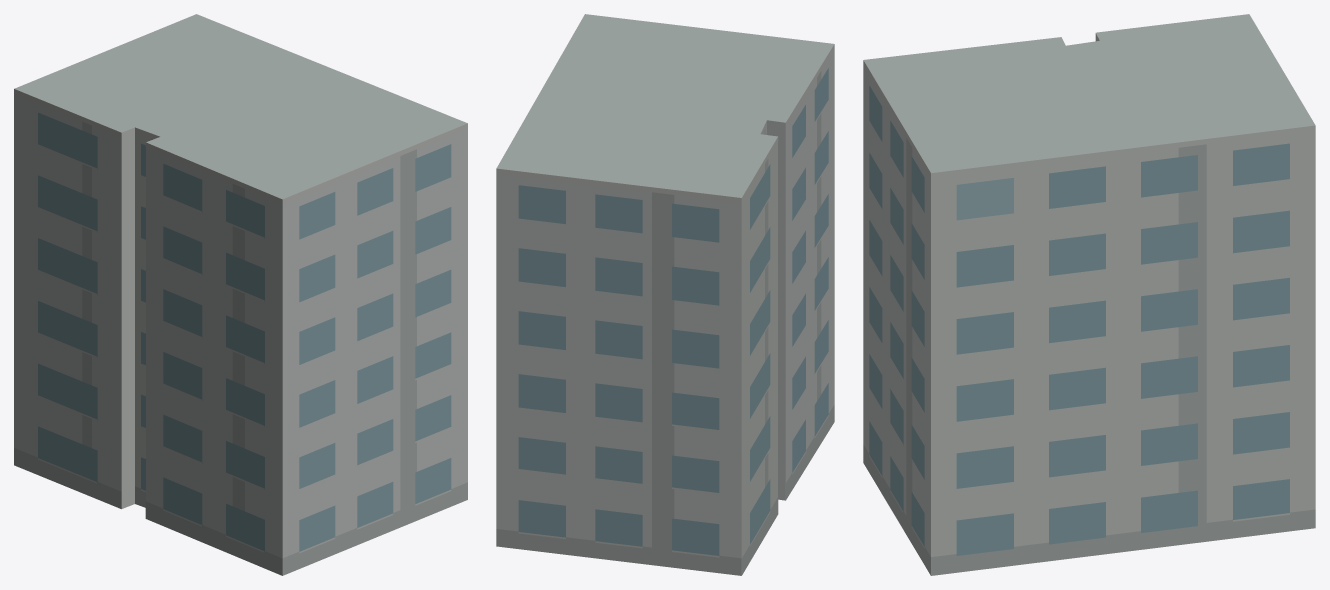
Rendered from survey-upis-32561527.glb.
The picture shows the model from 3 angles, left to right: view 1: azimuth 30°, elevation 25°; view 2: azimuth 150°, elevation 25°; view 3: azimuth 270°, elevation 25°; orthographic projection. The views are drawn at different scales.
Visible parts, largest first — view 1: survey-upis-32561527.tmp; view 2: survey-upis-32561527.tmp; view 3: survey-upis-32561527.tmp.
Part boxes in pixels (<box>): survey-upis-32561527.tmp: <box>14,14,467,575</box>; survey-upis-32561527.tmp: <box>496,14,834,575</box>; survey-upis-32561527.tmp: <box>863,14,1315,575</box>.
Bounding box in the file's own units: 15.52 × 18.3 × 18.64.
